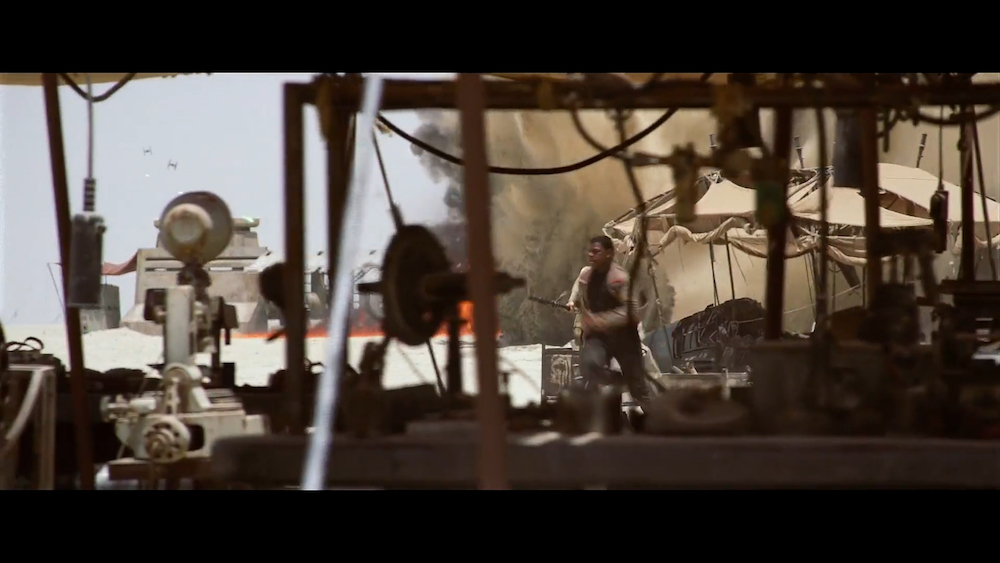Tie Fighter: (168, 161, 179, 172), (143, 148, 152, 157)
